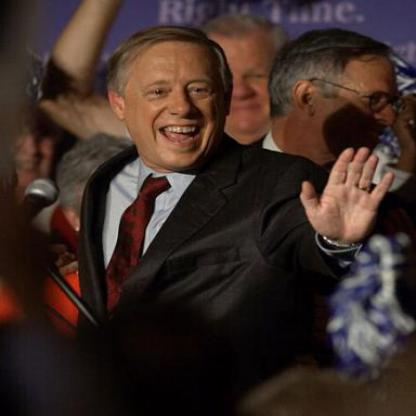face: (122, 31, 231, 170), (312, 45, 409, 163), (196, 19, 285, 136)
